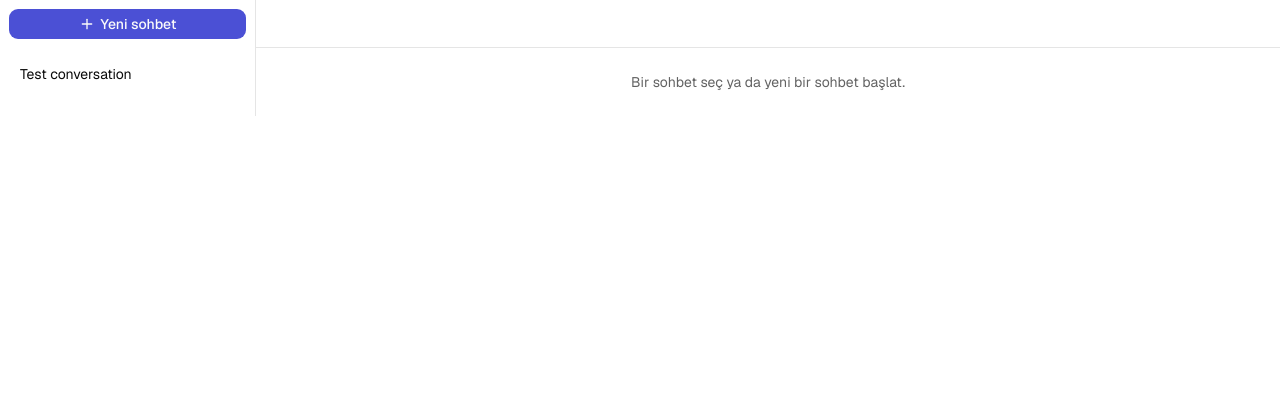
Test case: ChatView › shows a disconnect banner when the stream ends without a terminal event
Click the button "Test conversation" at (128, 74), box [8,56,247,92]
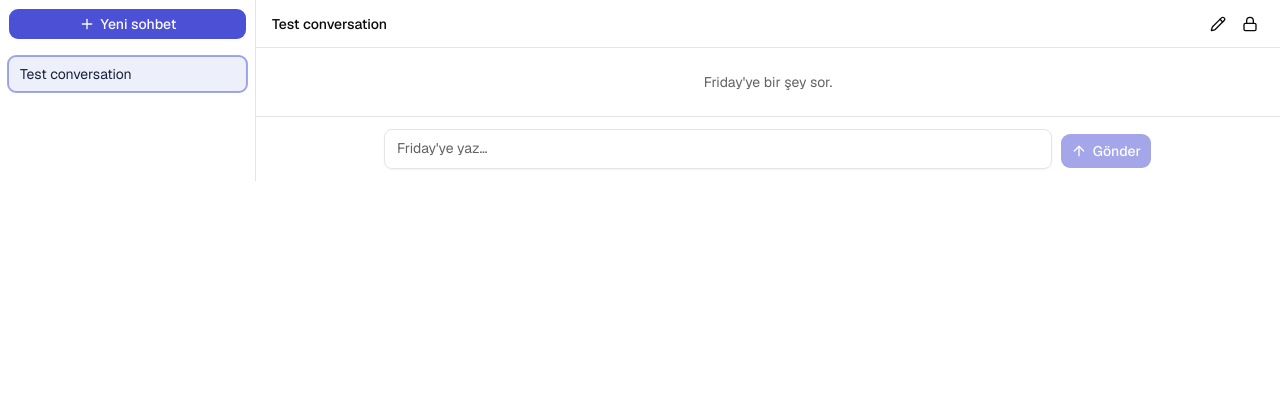
Check: the text box with placeholder "Friday'ye yaz…" is shown
Type "Disconnect me" into the text box with placeholder "Friday'ye yaz…" at (718, 149), box [384,129,1052,169]
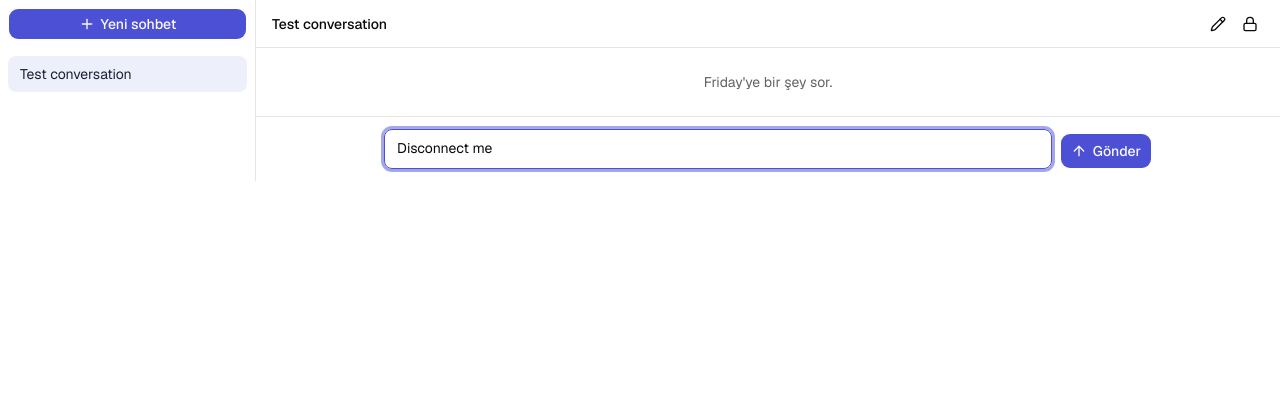
Click the button "Gönder" at (1106, 151), box [1060,133,1152,169]
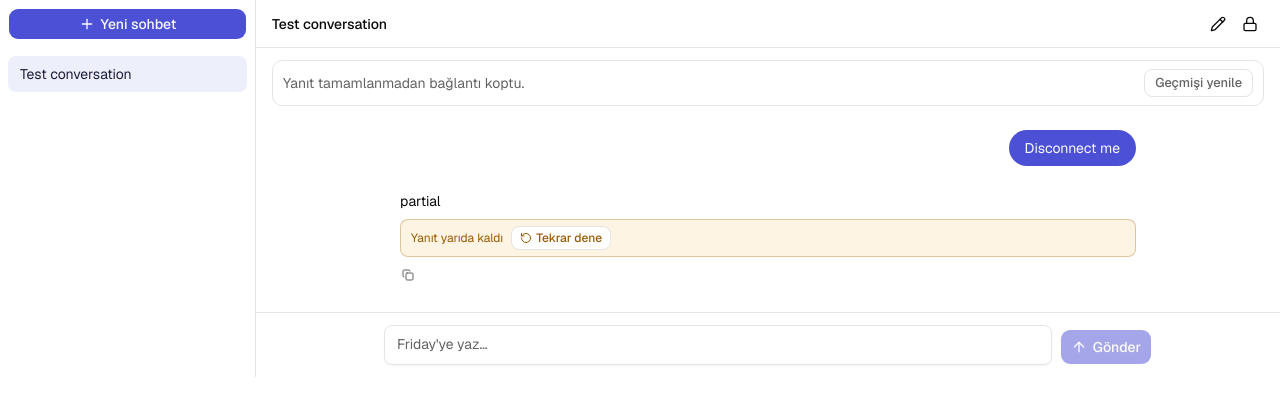
Check: the text "Yanıt tamamlanmadan bağlantı koptu." is shown, box [283,73,524,93]
Check: the text "partial" is shown, box [400,192,440,210]
Check: the text "Yanıt yarıda kaldı" is shown, box [411,230,503,246]
